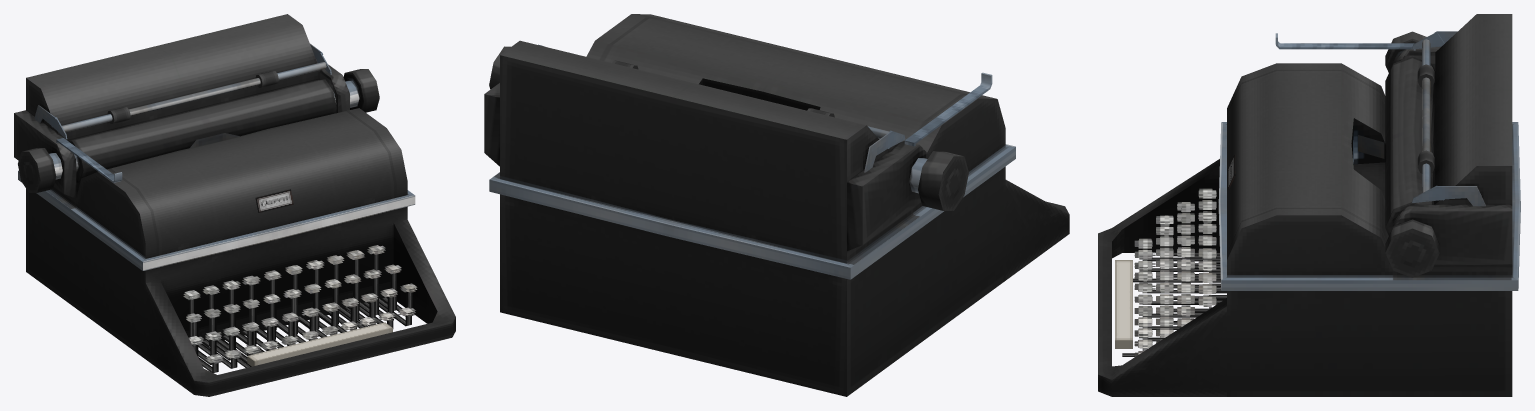
The model's file is TypeWriter.fbx.
3 views of the same model, side by side, from view 1: azimuth 30°, elevation 25°; view 2: azimuth 150°, elevation 25°; view 3: azimuth 270°, elevation 25° (orthographic). The views are drawn at different scales.
Parts seen in each view (by area): view 1: 0_TEX_1; view 2: 0_TEX_1; view 3: 0_TEX_1.
Boxes of the visible parts, box(x1,y1,x2,y2) form: 0_TEX_1: box(14, 14, 455, 396); 0_TEX_1: box(484, 14, 1069, 396); 0_TEX_1: box(1098, 14, 1520, 396).
Size of the model in its own units: 39.81 by 21.76 by 36.08.
Materials: 1 (1 with a texture image).
